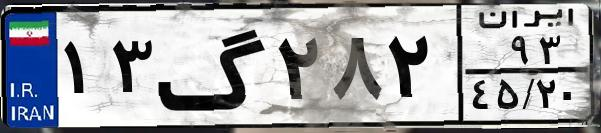0: (560, 70, 590, 125)
1: (57, 26, 110, 100)
2: (270, 28, 330, 110), (385, 28, 445, 110), (535, 70, 560, 125)
3: (110, 28, 156, 98), (537, 27, 568, 80)
4: (470, 70, 495, 125)
5: (495, 70, 520, 125)
8: (330, 28, 385, 110)
9: (508, 27, 537, 80)
گ: (156, 12, 270, 120)
